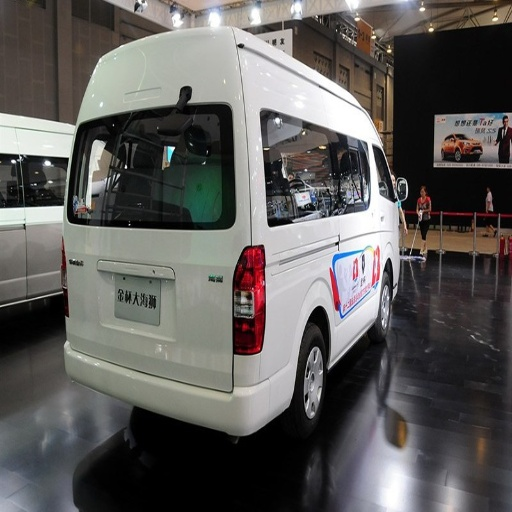back_bumper: (67, 318, 297, 436)
back_glass: (76, 44, 228, 224)
trunk: (66, 227, 334, 389)
